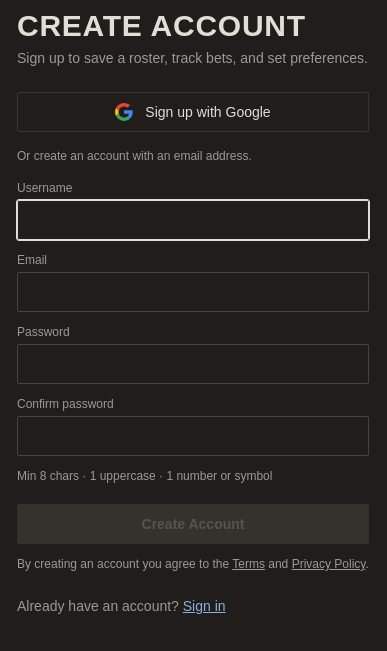
Test case: RegisterPage › shows plain text when the password meets the rules
Type "Hardwood1" into the password field labelled "Password".
click(193, 364); type("Hardwood1")  # box [17, 344, 369, 384]
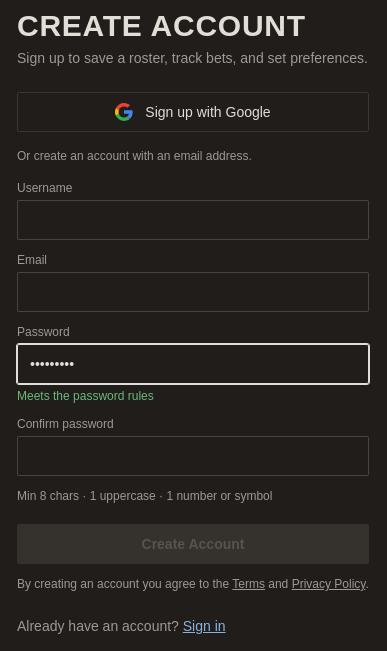
Expected: the text "Meets the password rules" is shown, [17, 389, 154, 403]
